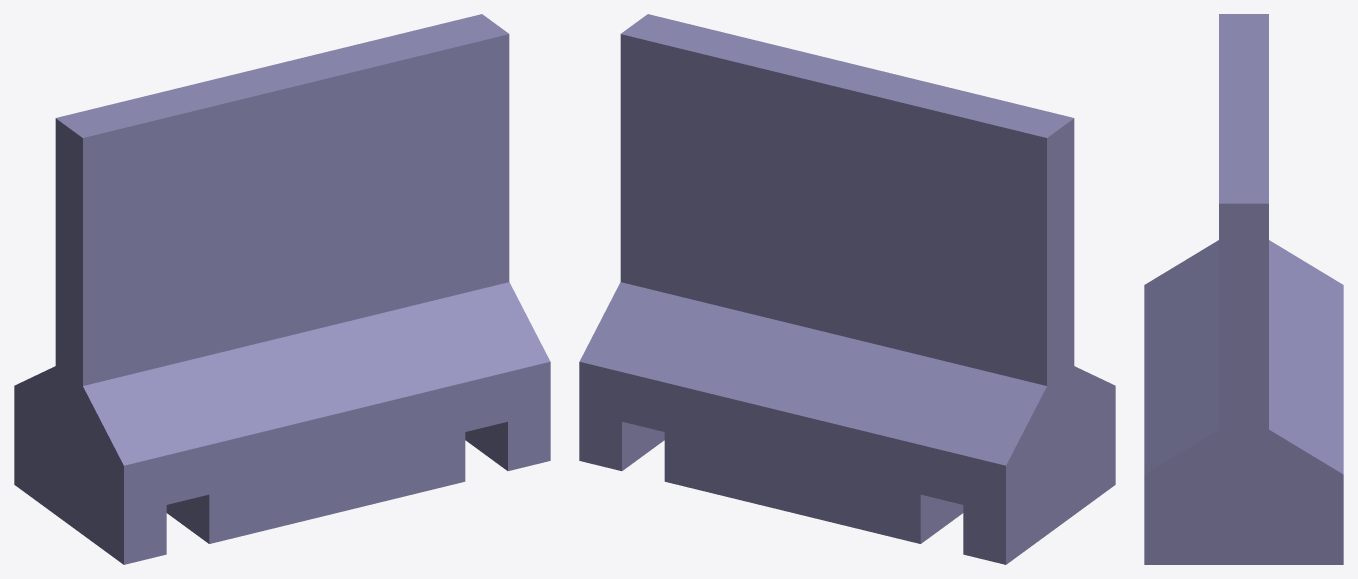
File: TallRoadBlock.fbx
The picture shows the model from 3 angles, left to right: view 1: azimuth 30°, elevation 25°; view 2: azimuth 150°, elevation 25°; view 3: azimuth 270°, elevation 25°; orthographic projection. The views are drawn at different scales.
Visible parts, largest first — view 1: detail_roadBlockSmall; view 2: detail_roadBlockSmall; view 3: detail_roadBlockSmall.
Boxes of the visible parts, left/top/right/bottom form: detail_roadBlockSmall: left=14, top=14, right=550, bottom=564; detail_roadBlockSmall: left=579, top=14, right=1115, bottom=564; detail_roadBlockSmall: left=1144, top=14, right=1343, bottom=564.
Bounding box in the file's own units: 9 × 8 × 4.
